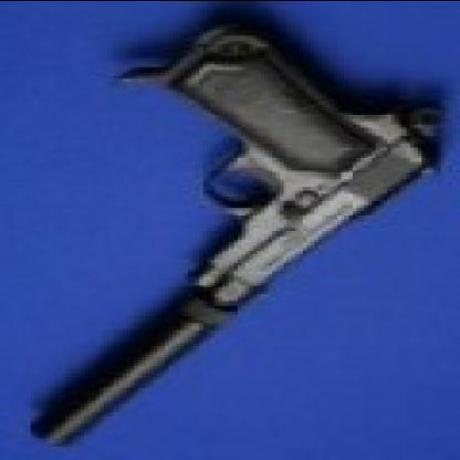weapon: (27, 8, 448, 443)
